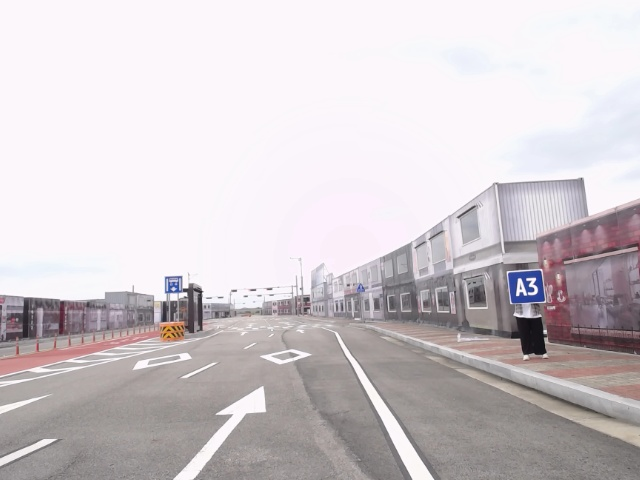delivery_a3: (507, 269, 546, 304)
